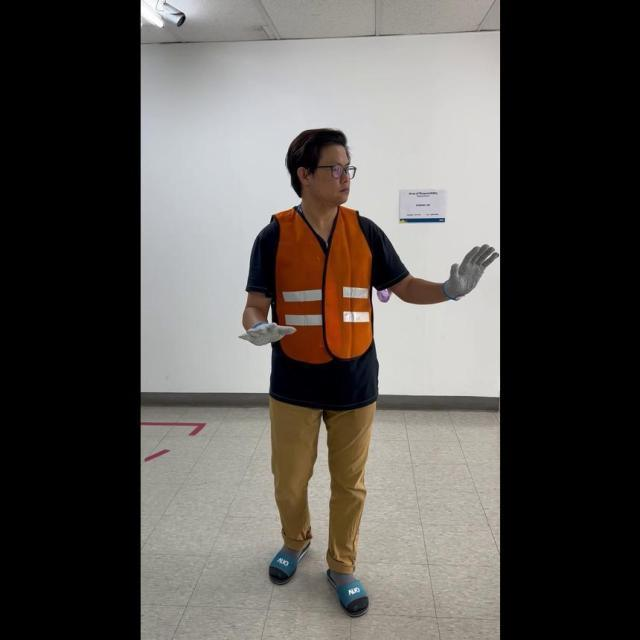gloved_hand: (440, 238, 496, 301), (235, 313, 295, 350)
